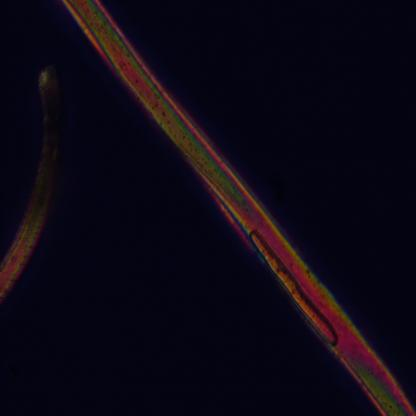Microfibre: (63, 0, 416, 414), (0, 63, 70, 298)
